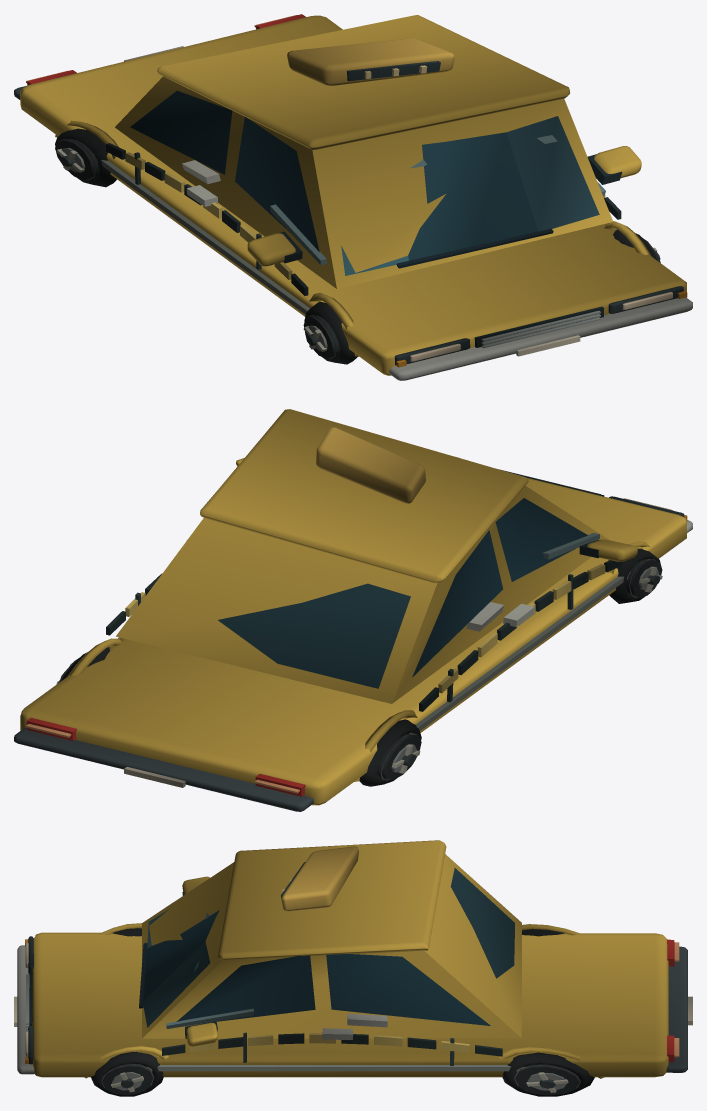
Rendered from taxi.glb.
The picture shows the model from 3 angles, top to bottom: view 1: azimuth 30°, elevation 25°; view 2: azimuth 150°, elevation 25°; view 3: azimuth 270°, elevation 25°; orthographic projection. The views are drawn at different scales.
Visible parts, largest first — view 1: taxi_body; view 2: taxi_body; view 3: taxi_body.
Part boxes in pixels (x1,y1,x2,y2): taxi_body: (14,14,692,380); taxi_body: (14,409,692,811); taxi_body: (14,840,692,1096).
Size of the model in its own units: 2.19 by 1.02 by 3.88.
